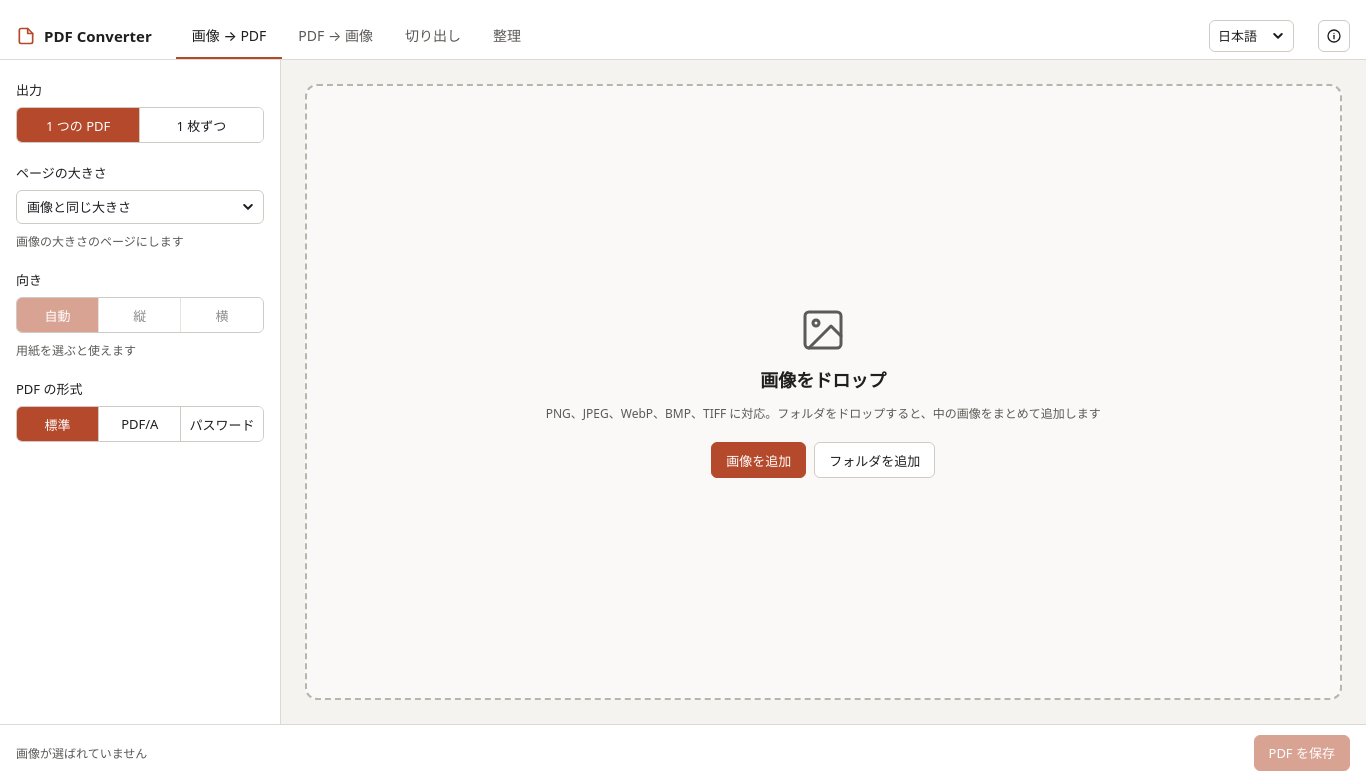
Test: the crop tab: opening a PDF › the tab › leaves the other tabs as they were
Step 1. Click the tab "切り出し" → (433, 36), box [389,12,477,59]
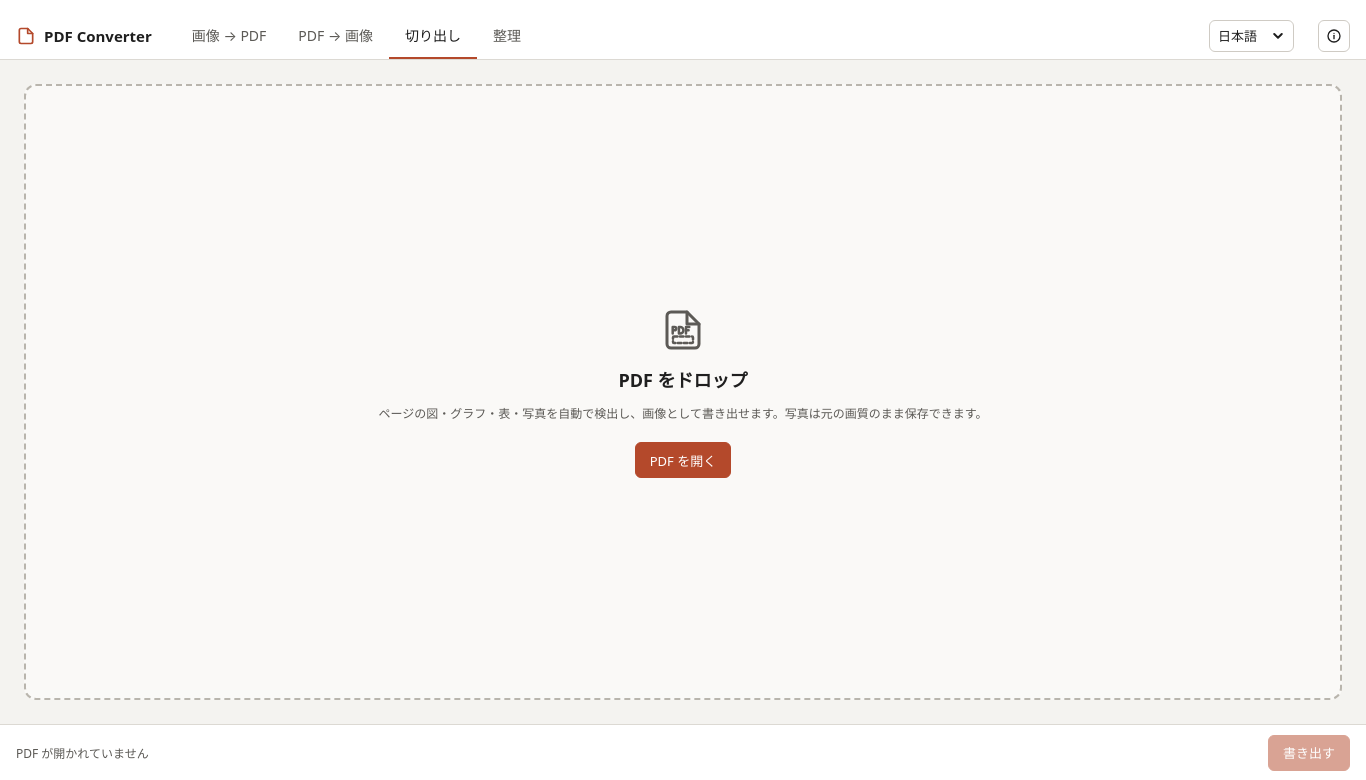
Step 2. Click the tab "PDF → 画像" → (336, 36), box [282,12,389,59]
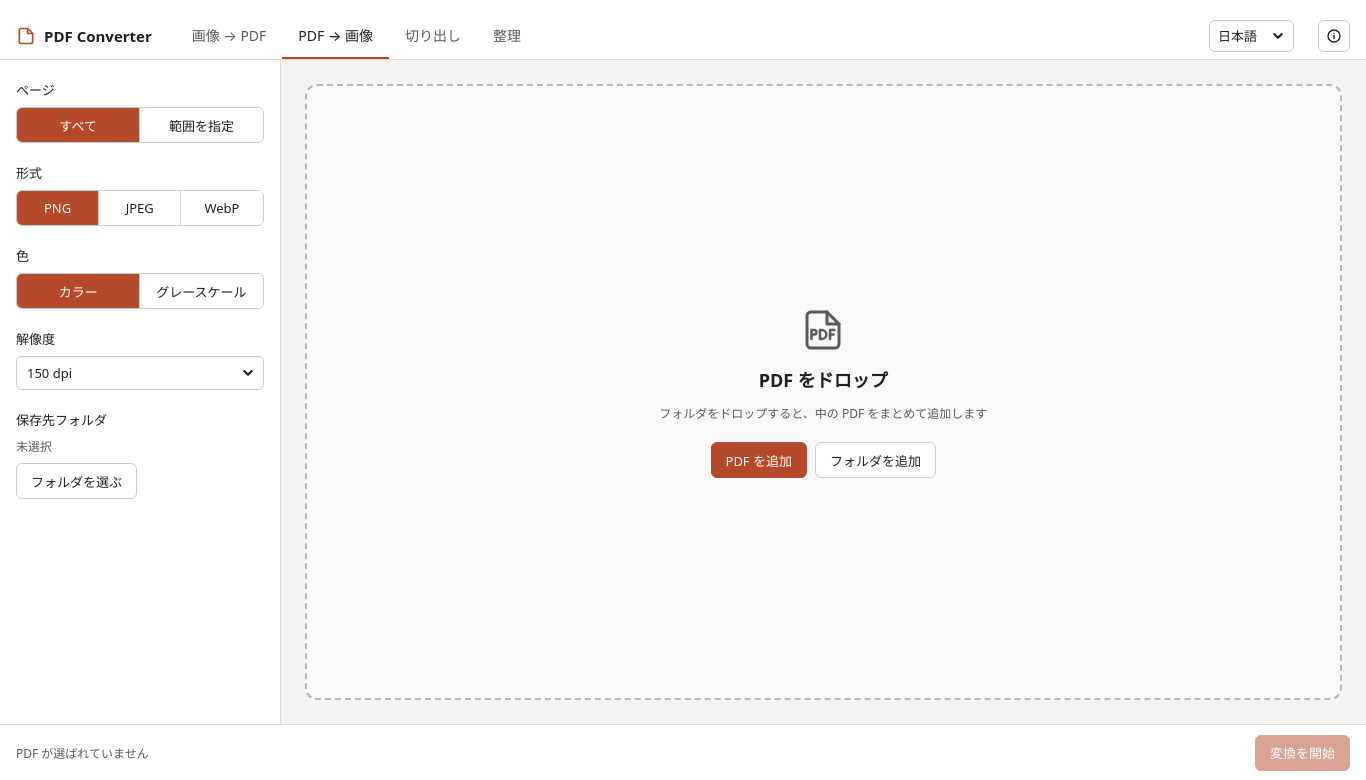
Expected: the button "変換を開始" is shown, [1255,734,1350,770]
Expected: the element named "形式" is shown, [16,190,264,226]
Step 3. Click the tab "画像 → PDF" → (229, 36), box [176,12,282,59]
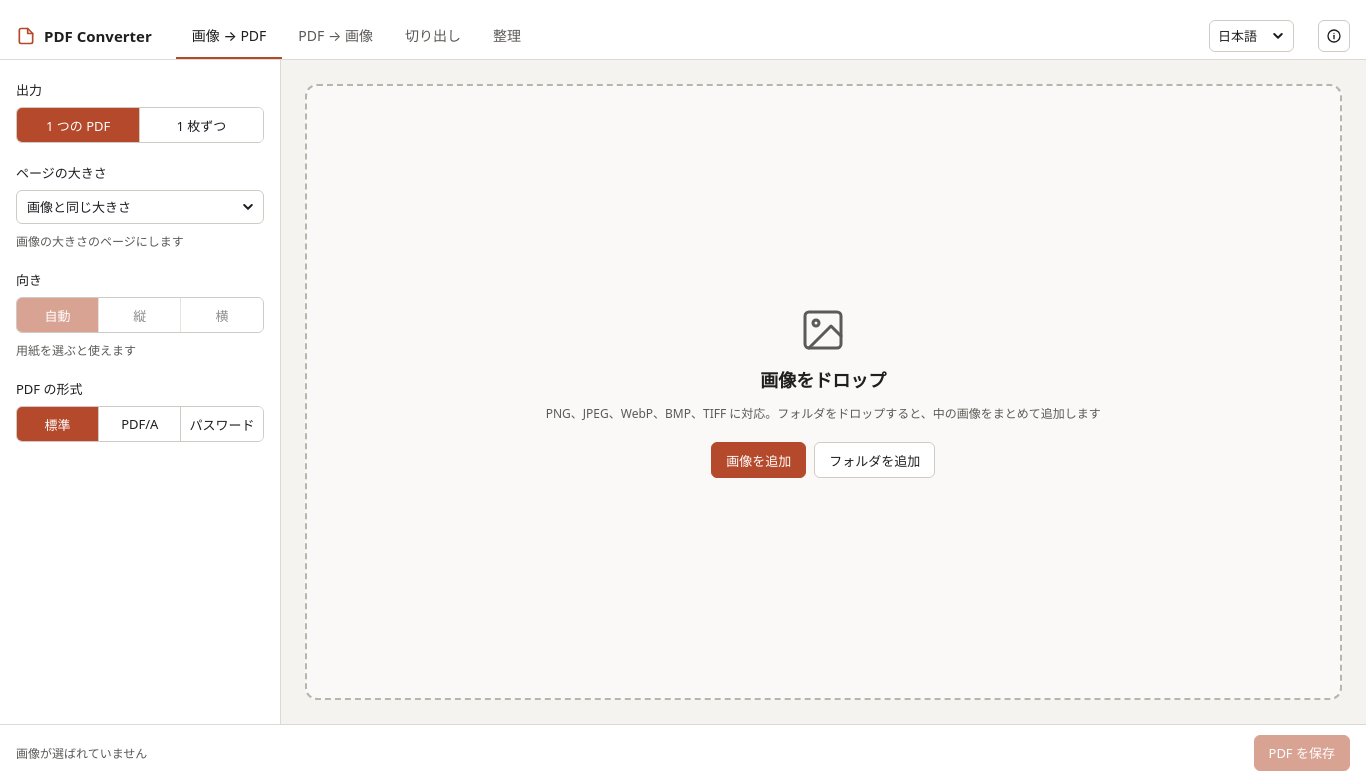
Expected: the button "PDF を保存" is shown, [1254,734,1350,770]
